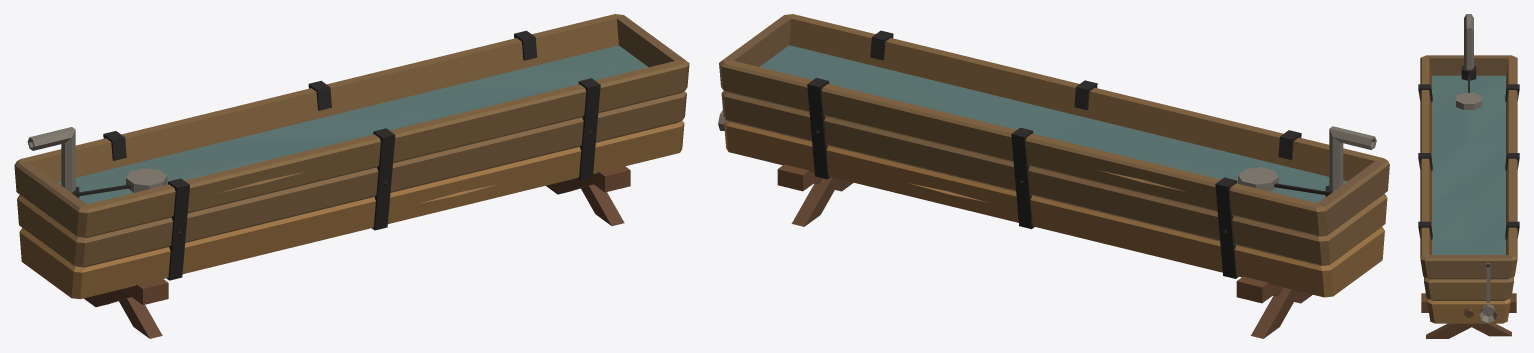
The model's file is plank-trough-baf3d5.glb.
3 views of the same model, side by side, from view 1: azimuth 30°, elevation 25°; view 2: azimuth 150°, elevation 25°; view 3: azimuth 270°, elevation 25° (orthographic). The views are drawn at different scales.
Size of the model in its own units: 2.49 by 0.7408 by 0.4995.
